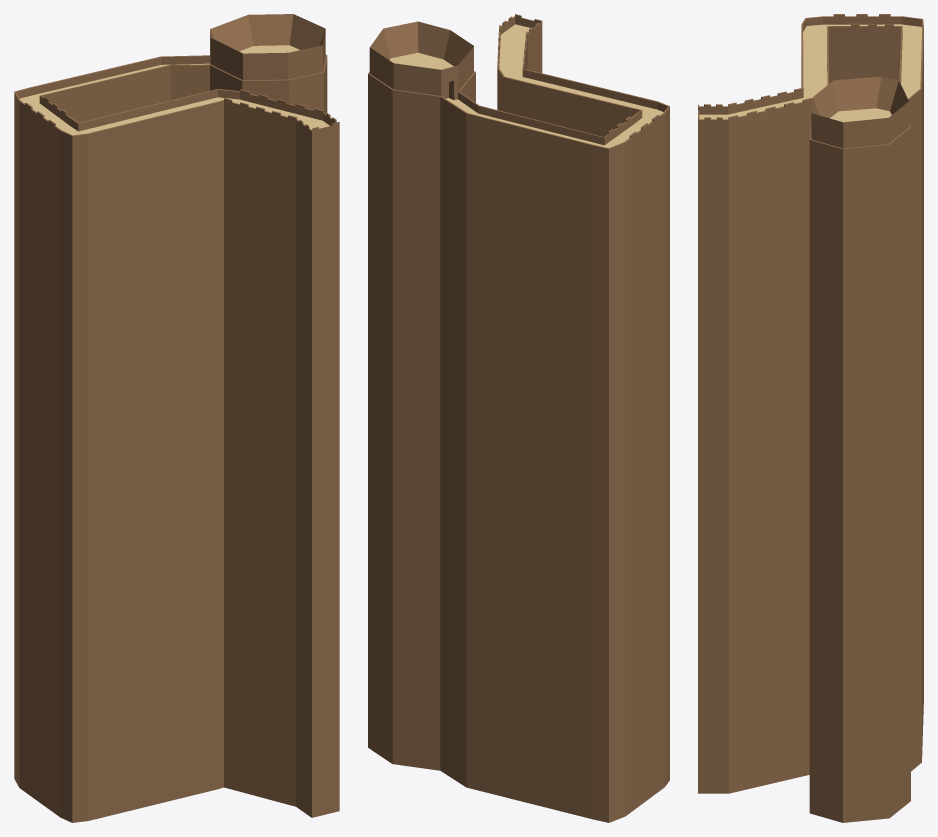
The model's file is CastleLevel.fbx.
The picture shows the model from 3 angles, left to right: view 1: azimuth 30°, elevation 25°; view 2: azimuth 150°, elevation 25°; view 3: azimuth 270°, elevation 25°; orthographic projection.
Visible parts, largest first — view 1: Cube; view 2: Cube; view 3: Cube.
Part boxes in pixels (x1=…): Cube: x1=14, y1=14, x2=339, y2=822; Cube: x1=368, y1=14, x2=669, y2=822; Cube: x1=698, y1=14, x2=923, y2=822.
Bounding box in the file's own units: 1874 × 4594 × 1344.
